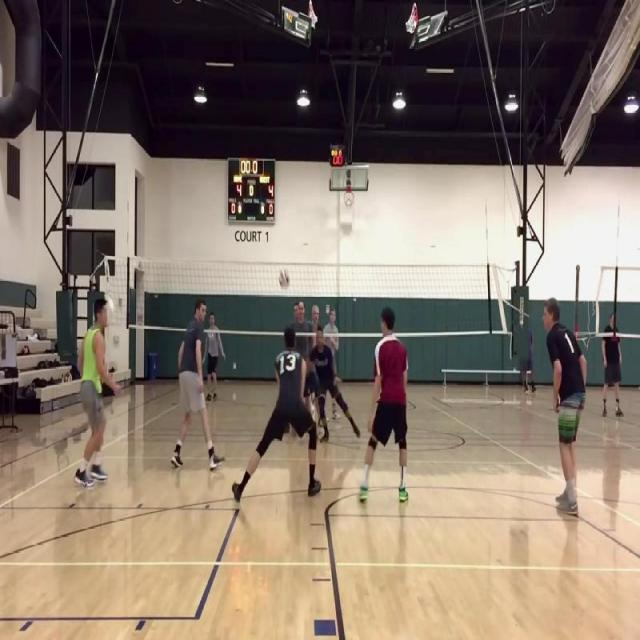volleyball: (279, 270, 289, 286)
